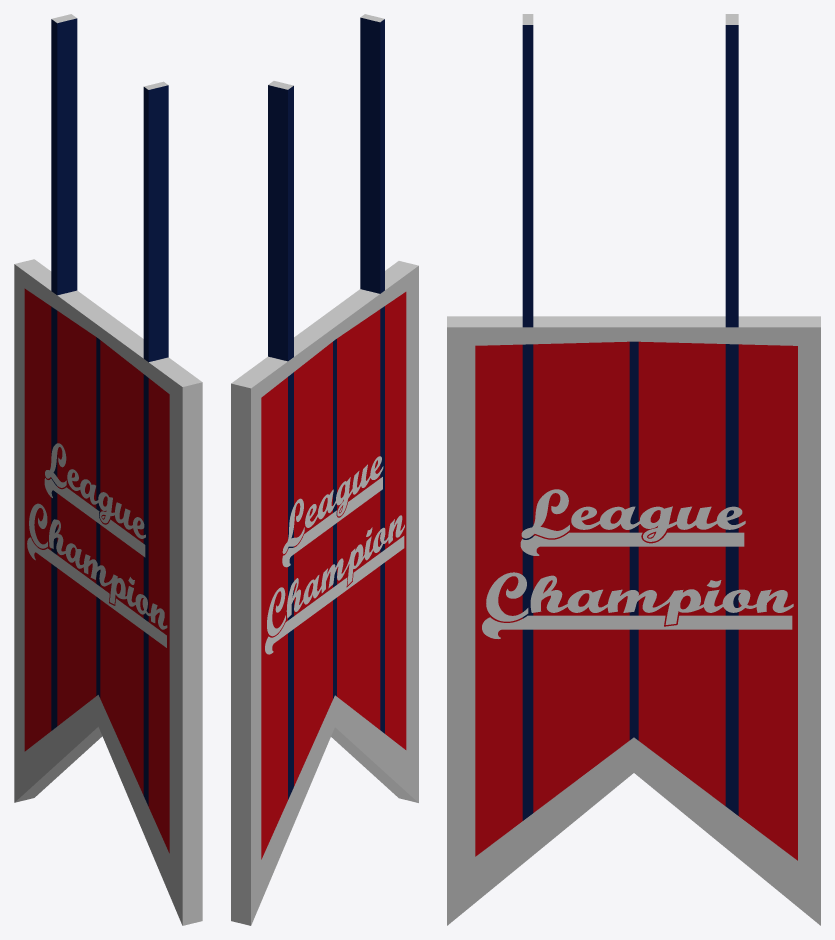
The model's file is Signage2.fbx.
The picture shows the model from 3 angles, left to right: view 1: azimuth 30°, elevation 25°; view 2: azimuth 150°, elevation 25°; view 3: azimuth 270°, elevation 25°; orthographic projection. The views are drawn at different scales.
Parts seen in each view (by area): view 1: Cube, Text.001; view 2: Cube, Text.001; view 3: Cube, Text.
Boxes of the visible parts, box(x1,y1,x2,y2) form: Cube: box(14, 14, 202, 925); Text.001: box(27, 443, 167, 647); Cube: box(231, 14, 418, 925); Text.001: box(265, 456, 404, 654); Cube: box(447, 14, 820, 925); Text: box(482, 489, 793, 638).
Bounding box in the file's own units: 53.2 × 1958 × 736.
